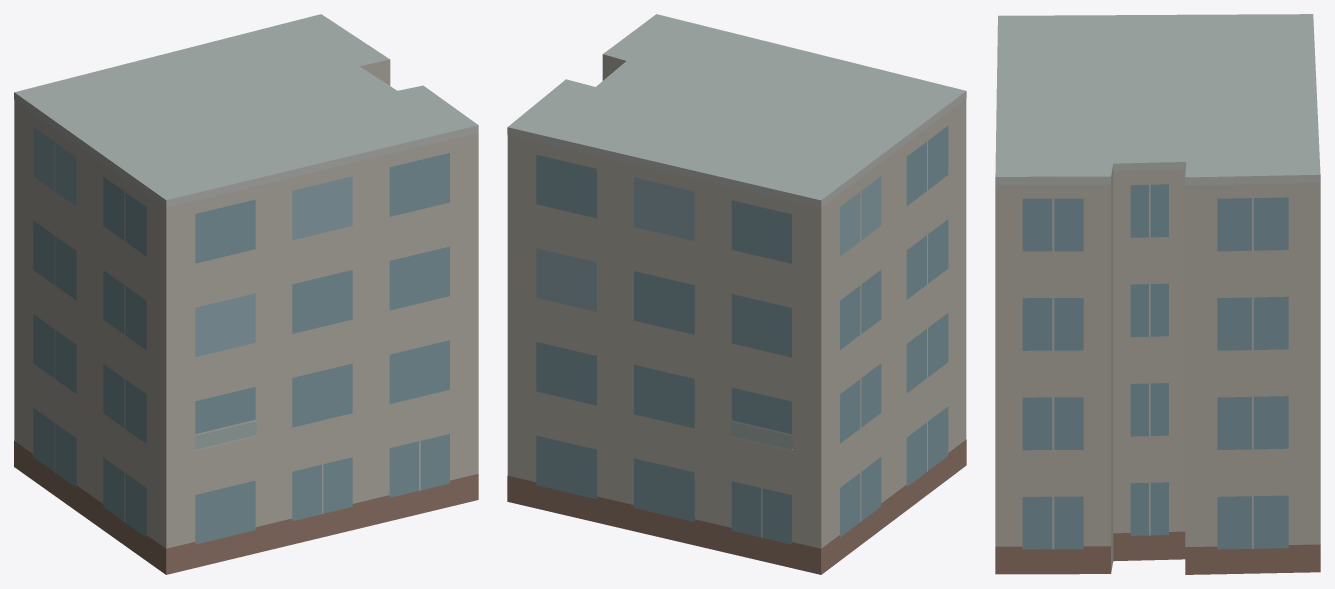
File: survey-upis-32987710.glb
3 views of the same model, side by side, from view 1: azimuth 30°, elevation 25°; view 2: azimuth 150°, elevation 25°; view 3: azimuth 270°, elevation 25° (orthographic). The views are drawn at different scales.
Visible parts, largest first — view 1: survey-upis-32987710.tmp; view 2: survey-upis-32987710.tmp; view 3: survey-upis-32987710.tmp.
Part boxes in pixels (bbox=[...]): survey-upis-32987710.tmp: bbox=[14, 14, 478, 574]; survey-upis-32987710.tmp: bbox=[507, 14, 966, 574]; survey-upis-32987710.tmp: bbox=[995, 14, 1320, 574].
Bounding box in the file's own units: 10.68 × 12.1 × 8.98.
